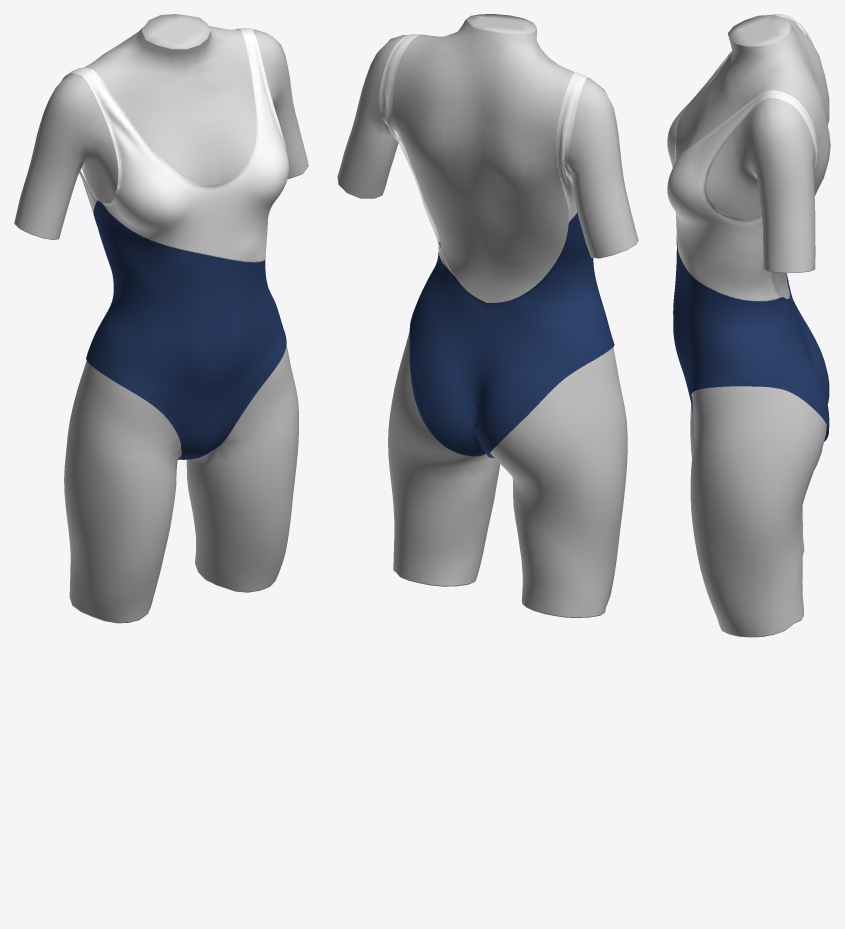
File: Swimsuit_F.gltf
3 renders of one model, left to right at view 1: azimuth 30°, elevation 25°; view 2: azimuth 150°, elevation 25°; view 3: azimuth 270°, elevation 25°, orthographic.
Visible parts, largest first — view 1: AvatarMujer_quads, Swimsuit_F; view 2: AvatarMujer_quads, Swimsuit_F; view 3: AvatarMujer_quads, Swimsuit_F.
Boxes of the visible parts, x1,y1,x2,y2 form: AvatarMujer_quads: [14, 14, 308, 623]; Swimsuit_F: [61, 28, 288, 460]; AvatarMujer_quads: [337, 14, 638, 617]; Swimsuit_F: [379, 33, 614, 458]; AvatarMujer_quads: [675, 14, 830, 637]; Swimsuit_F: [667, 14, 829, 441].
Bounding box in the file's own units: 0.521 × 1.53 × 0.2553.
2 materials, 1 textured.
